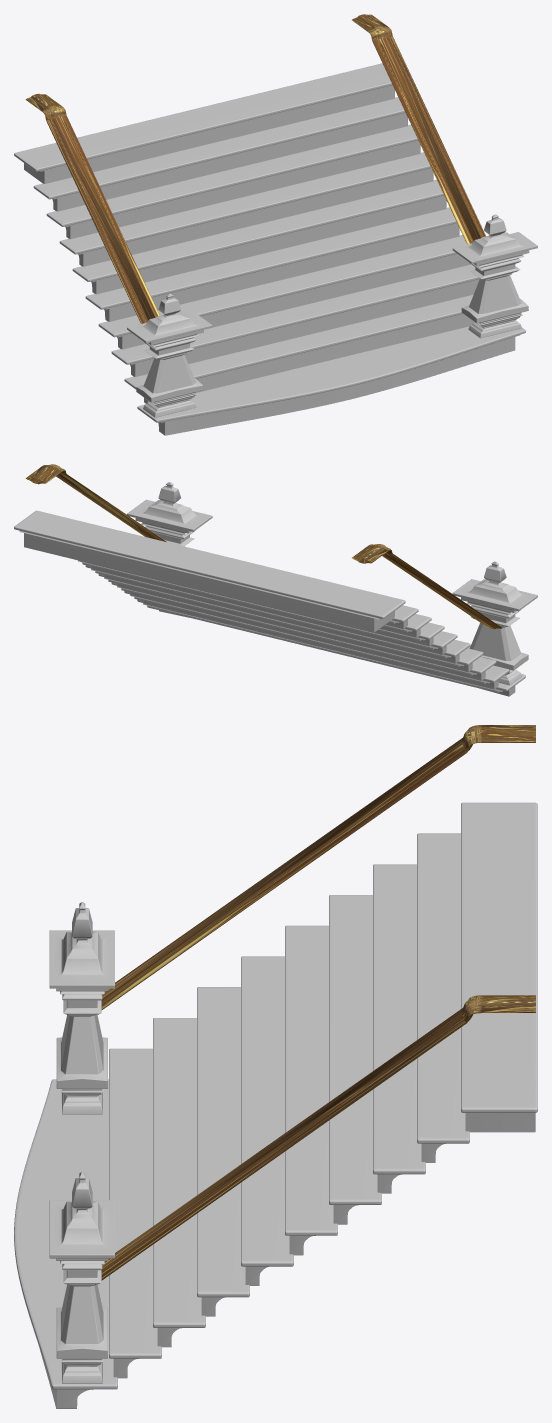
The model's file is selem.fbx.
3 views of the same model, one above another, from view 1: azimuth 30°, elevation 25°; view 2: azimuth 150°, elevation 25°; view 3: azimuth 270°, elevation 25° (orthographic). The views are drawn at different scales.
Parts seen in each view (by area): view 1: Stairs; view 2: Stairs; view 3: Stairs.
Part boxes in pixels (x1,y1,x2,y2): Stairs: (14,14,537,435); Stairs: (14,464,537,696); Stairs: (14,725,537,1408).
Bounding box in the file's own units: 679 × 390 × 463.
